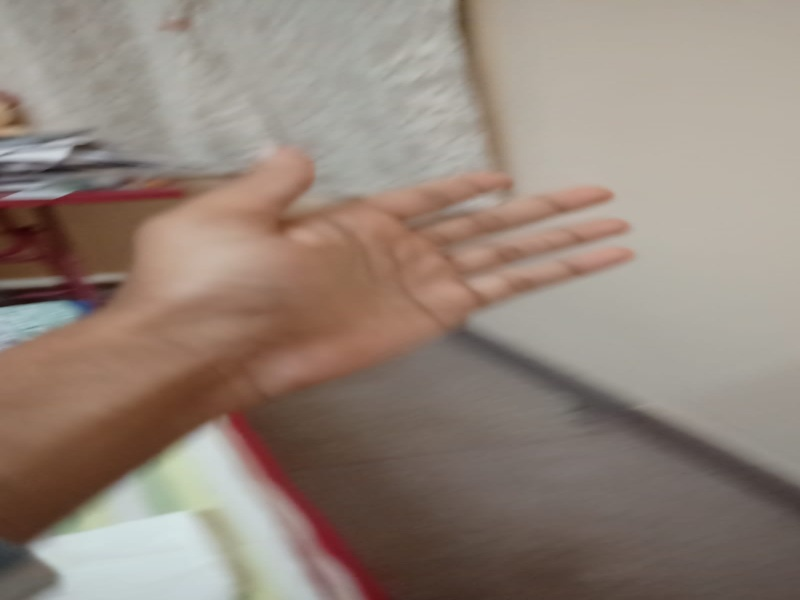Hand: (117, 135, 641, 422)
